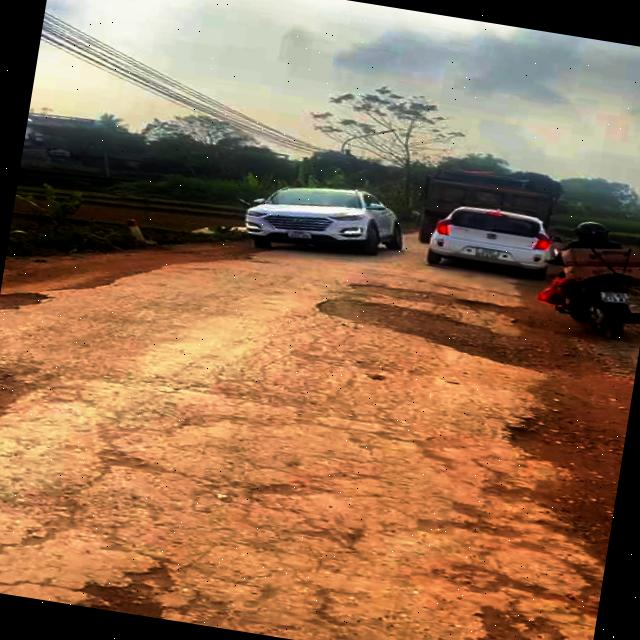pothole: (307, 270, 562, 378), (486, 394, 629, 482), (73, 552, 219, 626), (449, 591, 581, 640), (0, 358, 53, 448), (0, 284, 55, 321)
